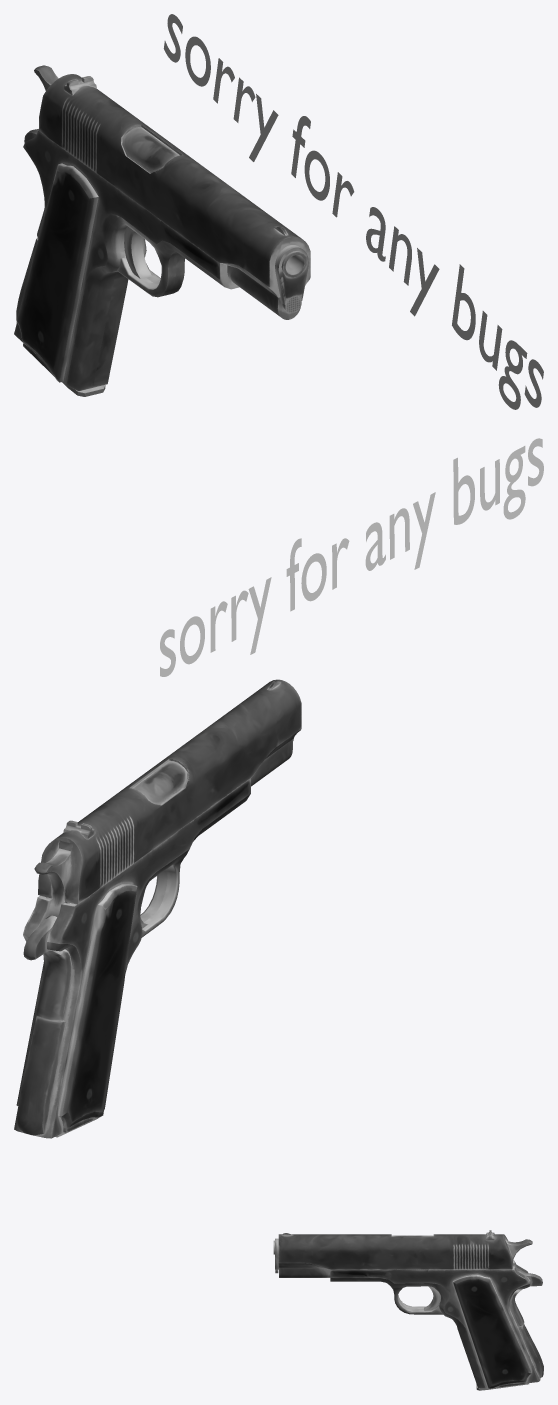
3 views of the same model, one above another, from view 1: azimuth 30°, elevation 25°; view 2: azimuth 150°, elevation 25°; view 3: azimuth 270°, elevation 25° (orthographic). The views are drawn at different scales.
Parts seen in each view (by area): view 1: Cube.003, Cube.005, Text, Cylinder, Cylinder.006, Cylinder.004; view 2: Cube.003, Cube.005, Text, Cylinder.006, Cylinder.005; view 3: Cube.003, Cube.005.
Boxes of the visible parts, box(x1,y1,x2,y2) form: Cube.003: box(14, 129, 300, 396); Cube.005: box(38, 74, 310, 297); Text: box(163, 14, 543, 409); Cylinder: box(275, 245, 308, 313); Cylinder.006: box(122, 127, 179, 173); Cylinder.004: box(124, 226, 151, 278); Cube.003: box(14, 739, 293, 1138); Cube.005: box(38, 679, 301, 904); Text: box(160, 438, 543, 676); Cylinder.006: box(132, 760, 187, 805); Cylinder.005: box(34, 848, 70, 917); Cube.003: box(278, 1260, 543, 1390); Cube.005: box(278, 1230, 512, 1269).
Size of the model in its own units: 0.552 by 4.52 by 9.83.
Materials: 1 (1 with a texture image).
